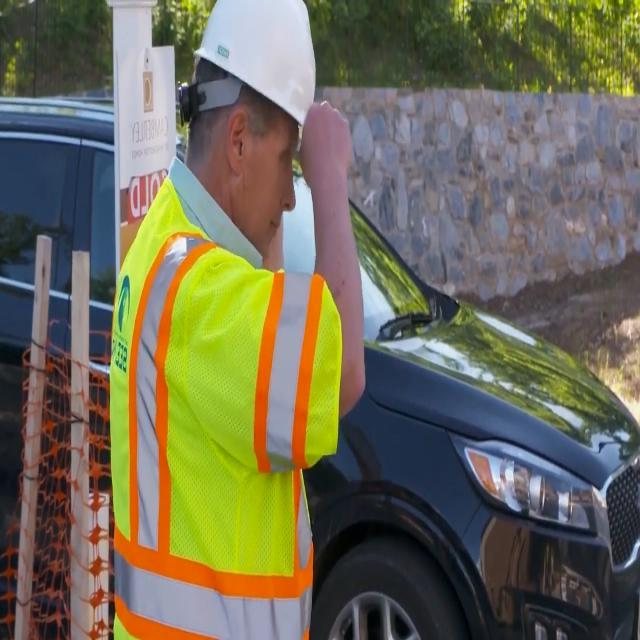helmet: (194, 0, 315, 128)
no_mask: (232, 144, 277, 262)
person: (108, 0, 365, 640)
vehicle: (0, 93, 640, 640)
vest: (108, 184, 334, 640)
